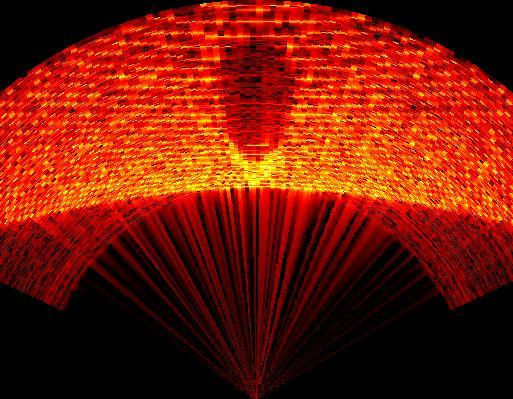box_crate: (216, 32, 296, 164)
